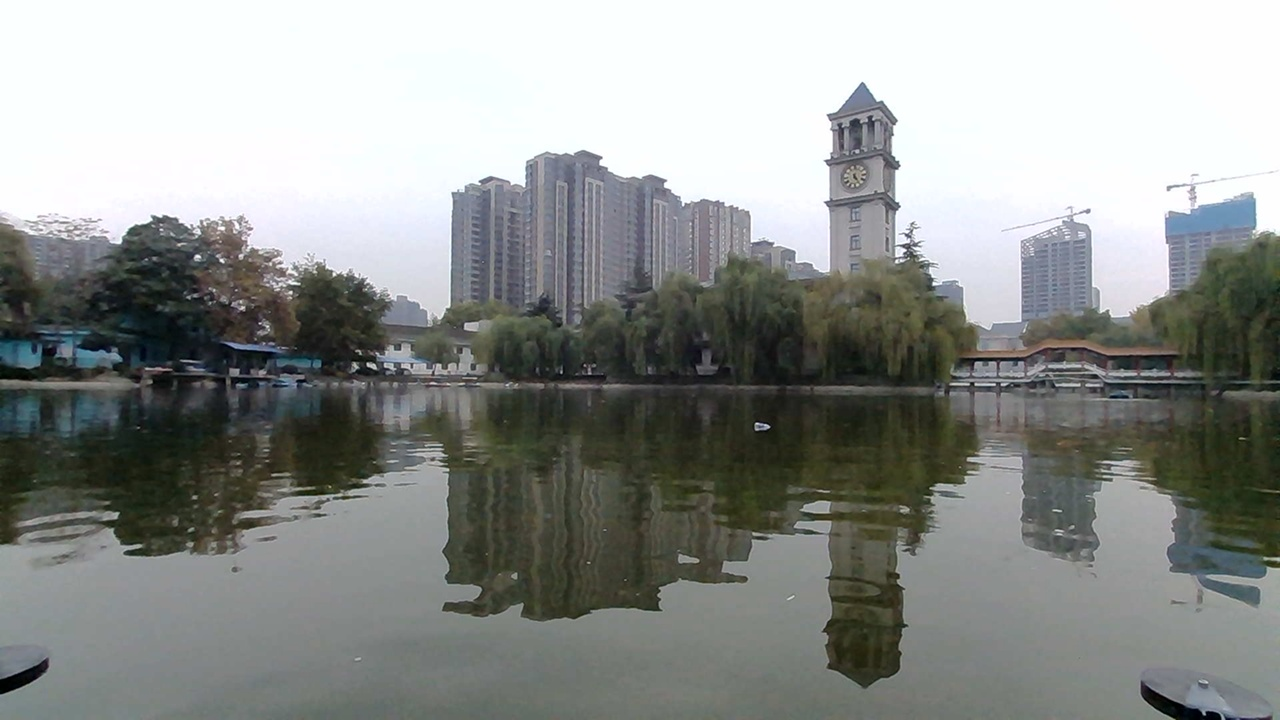bottle: (749, 411, 788, 441)
